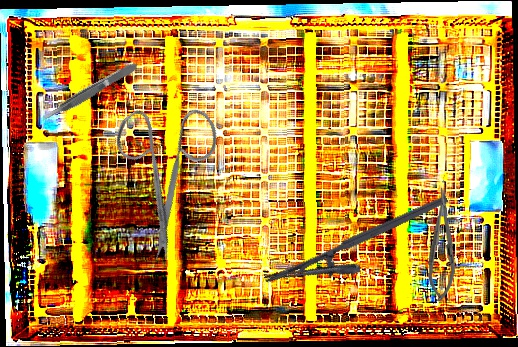Iris Scissors: (77, 78, 264, 267)
Needle Holder: (263, 194, 460, 309), (426, 188, 459, 302)
Tissue Forceps: (36, 59, 142, 126)
